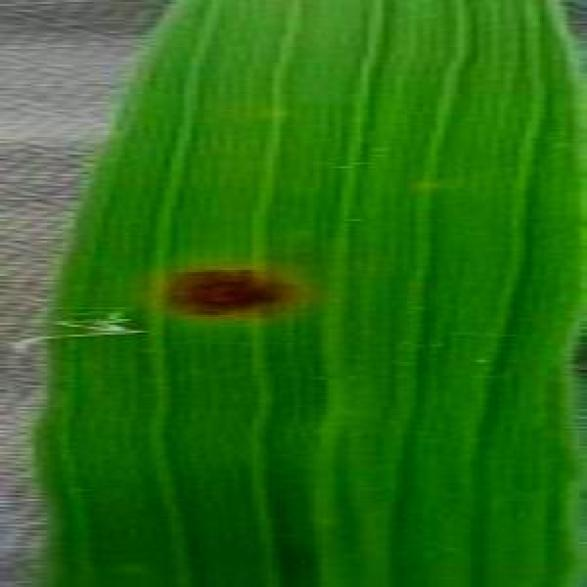Brown_Spot: (121, 235, 315, 340)
